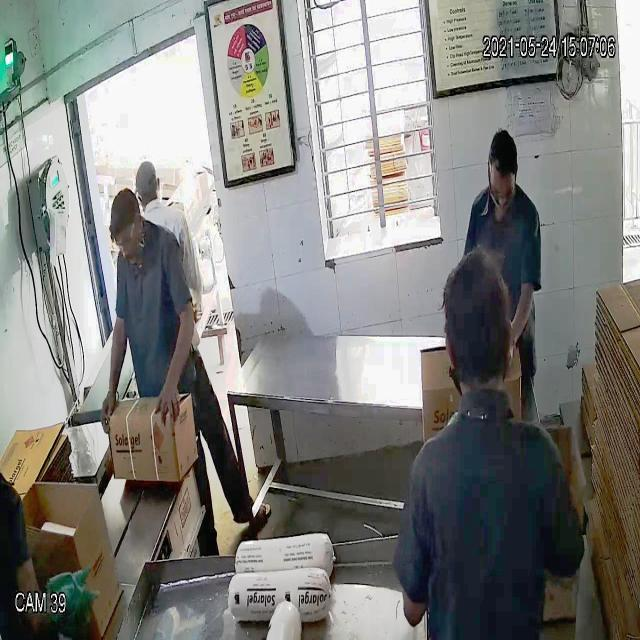glasses: (110, 222, 144, 254)
